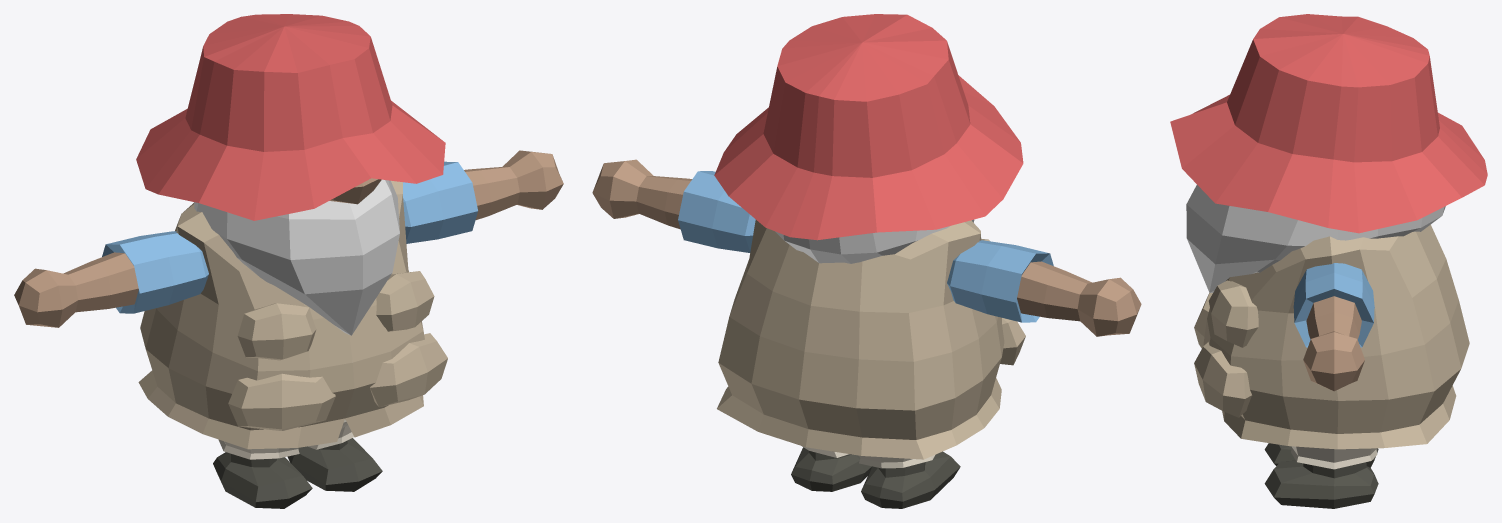
The model's file is Gnome_NoRig.fbx.
3 views of the same model, side by side, from view 1: azimuth 30°, elevation 25°; view 2: azimuth 150°, elevation 25°; view 3: azimuth 270°, elevation 25° (orthographic).
Visible parts, largest first — view 1: Gnome; view 2: Gnome; view 3: Gnome.
Boxes of the visible parts, x1,y1,x2,y2 form: Gnome: (14,14,563,508); Gnome: (592,14,1141,508); Gnome: (1170,14,1487,508).
Bounding box in the file's own units: 247 × 197 × 126.
1 material, 1 textured.
